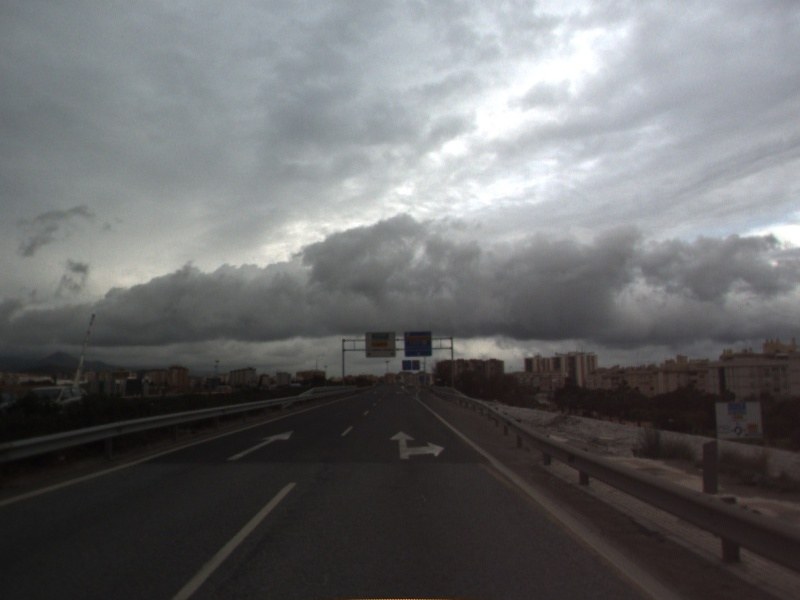STRAIGHT: (224, 428, 296, 463)
STRAIGHT_RIGHT: (387, 429, 447, 461)
